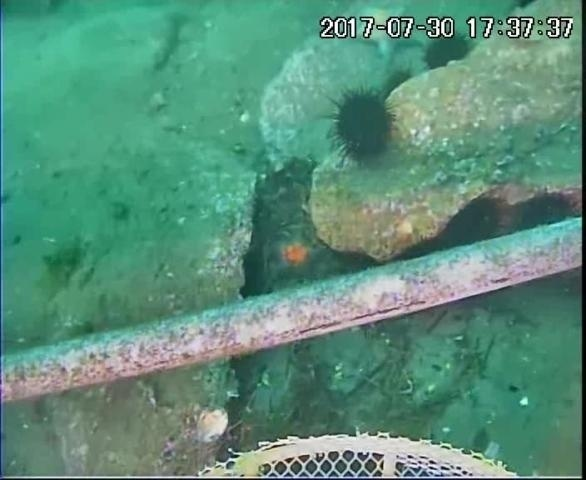echinus: (326, 84, 400, 167), (435, 194, 506, 255), (501, 188, 580, 241), (419, 29, 476, 76)
starfish: (262, 227, 331, 287)
